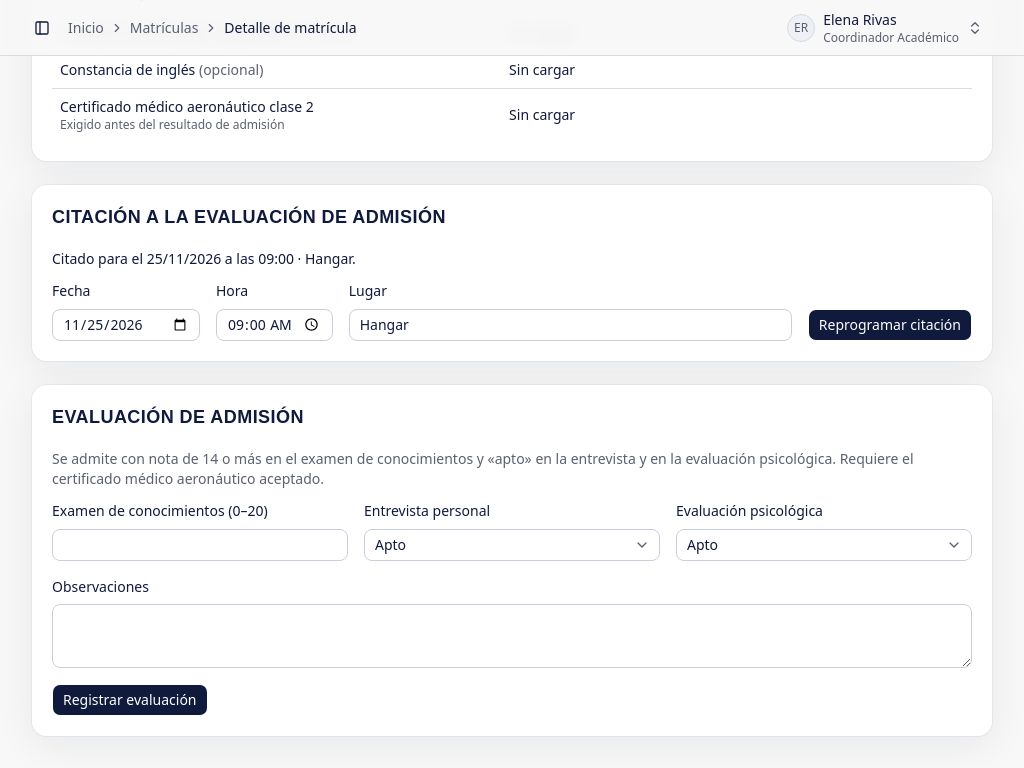
Admisión desde el detalle de la postulación › sin el certificado médico aceptado no registra la evaluación
(page scrolled)
Step 1. Type "17" into the number field labelled "Examen de conocimientos (0–20)" → [200, 544], box x1=52 y1=528 x2=348 y2=560
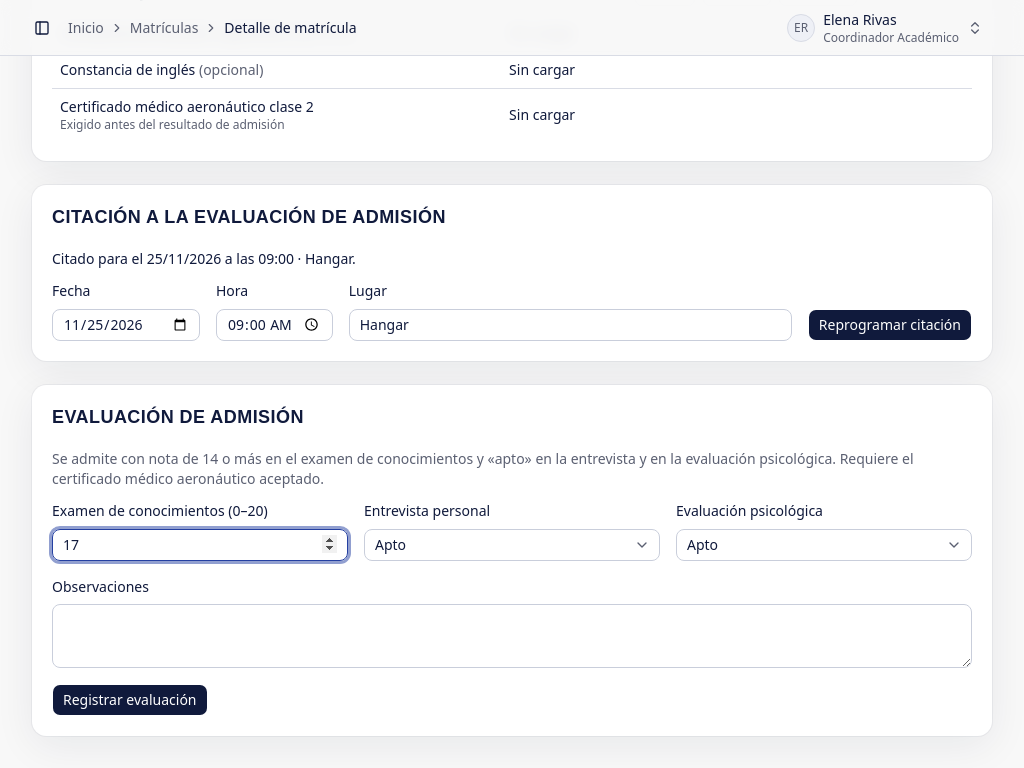
Step 2. Click the button "Registrar evaluación" → [130, 700], box x1=52 y1=684 x2=208 y2=716
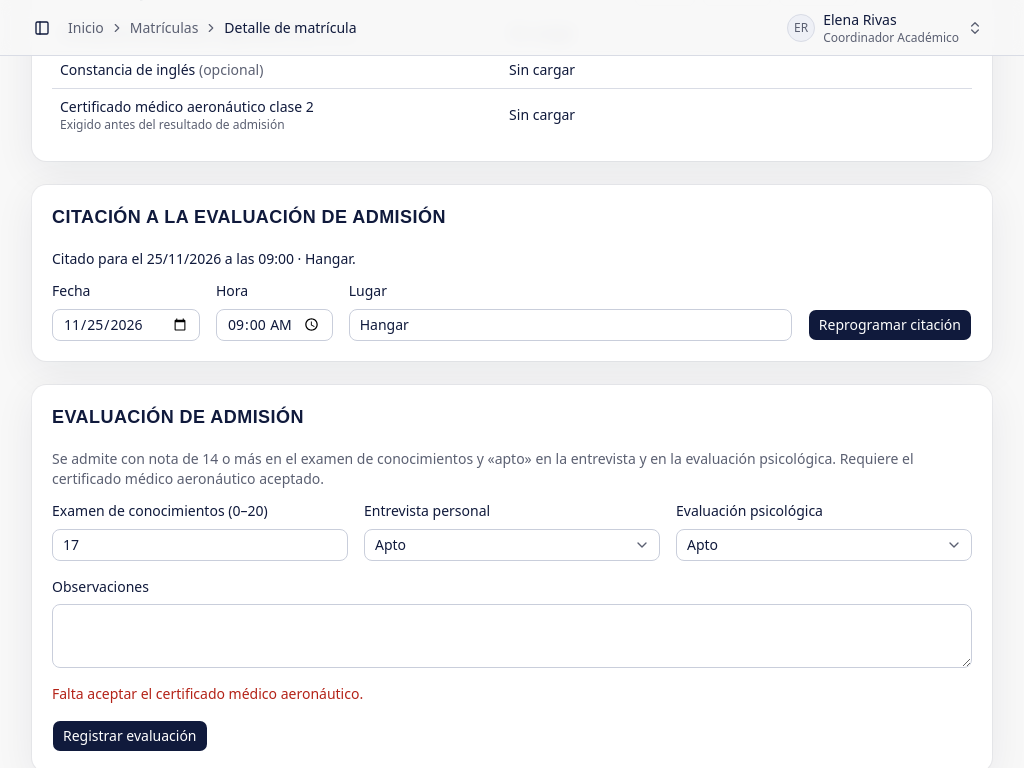
Now the text "Falta aceptar el certificado médico aeronáutico." is shown, box x1=52 y1=684 x2=363 y2=703
